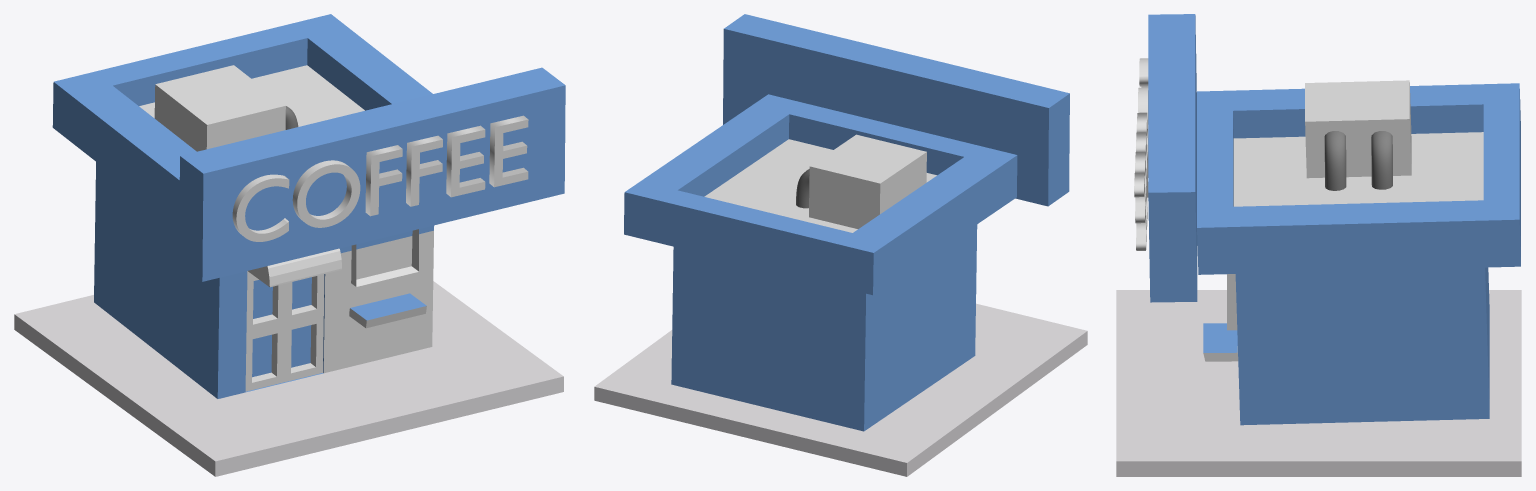
The model's file is coffee.glb.
3 renders of one model, left to right at view 1: azimuth 30°, elevation 25°; view 2: azimuth 150°, elevation 25°; view 3: azimuth 270°, elevation 25°, orthographic. The views are drawn at different scales.
Visible parts, largest first — view 1: Cube.001, Plane, Text, Cube.002; view 2: Cube.001, Plane; view 3: Cube.001, Plane, Text, NurbsPath.002, NurbsPath.001, Cube.002.
Part boxes in pixels (x1,y1,x2,y2): Cube.001: [52, 14, 565, 398]; Plane: [14, 281, 563, 476]; Text: [232, 115, 528, 241]; Cube.002: [351, 229, 418, 286]; Cube.001: [624, 14, 1069, 431]; Plane: [594, 303, 1087, 476]; Cube.001: [1148, 14, 1520, 425]; Plane: [1116, 290, 1521, 476]; Text: [1134, 58, 1148, 250]; NurbsPath.002: [1324, 131, 1346, 190]; NurbsPath.001: [1371, 131, 1392, 189]; Cube.002: [1227, 274, 1237, 330].
Size of the model in its own units: 11.66 by 8.87 by 11.09.
